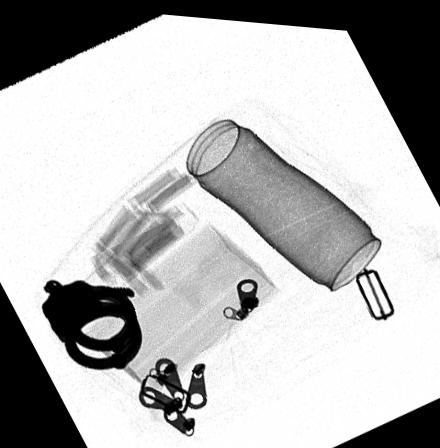HandCuffs: (42, 277, 143, 369)
